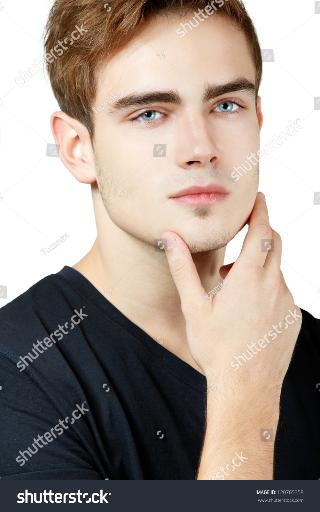left_eye: (211, 99, 248, 120)
left_lip_corner: (222, 186, 233, 201)
right_eye: (126, 107, 171, 130)
right_lip_corner: (167, 191, 181, 208)
